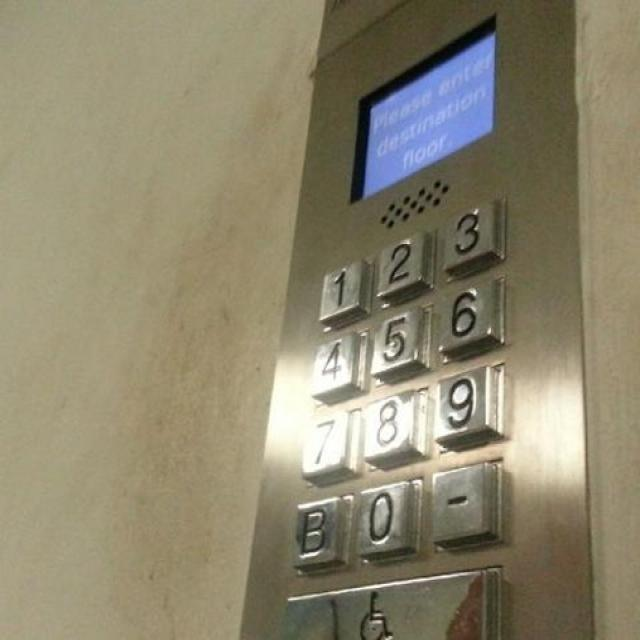-: (426, 462, 504, 554)
0: (356, 476, 422, 563)
1: (315, 256, 370, 329)
2: (376, 228, 433, 307)
3: (440, 197, 505, 283)
4: (309, 331, 366, 406)
5: (368, 307, 431, 385)
6: (438, 278, 509, 362)
7: (300, 407, 362, 485)
8: (361, 389, 433, 468)
9: (432, 360, 507, 452)
B: (289, 494, 352, 574)
CH: (332, 582, 410, 638)
led: (342, 7, 501, 201)
